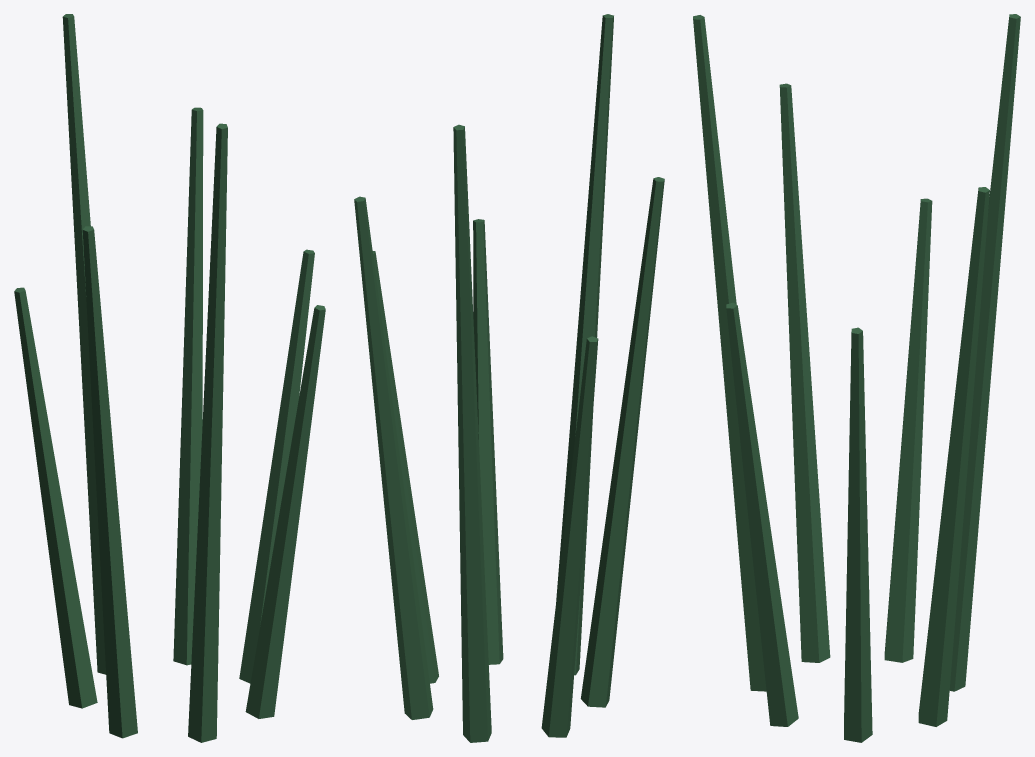
File: NAT_Seaweed.fbx
3 renders of one model, left to right at view 1: azimuth 30°, elevation 25°; view 2: azimuth 150°, elevation 25°; view 3: azimuth 270°, elevation 25°, orthographic. The views are drawn at different scales.
Visible parts, largest first — view 1: NAT_Seaweed__BODY; view 2: NAT_Seaweed__BODY; view 3: NAT_Seaweed__BODY.
Boxes of the visible parts, box(x1,y1,x2,y2) form: NAT_Seaweed__BODY: box(14, 14, 325, 742); NAT_Seaweed__BODY: box(354, 14, 664, 742); NAT_Seaweed__BODY: box(693, 14, 1020, 742).
Bounding box in the file's own units: 1.01 × 2.31 × 1.03.
